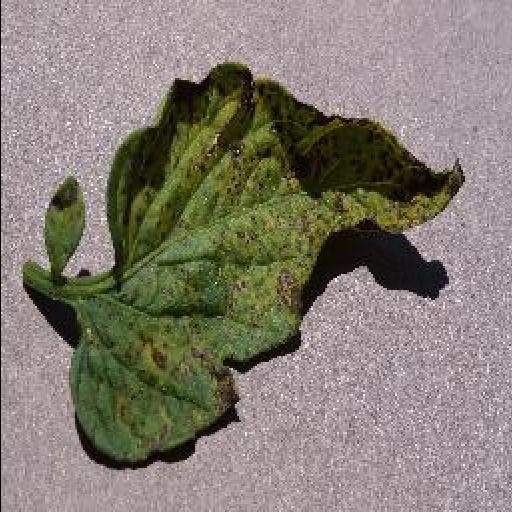disease_tomato: (69, 67, 467, 464)
